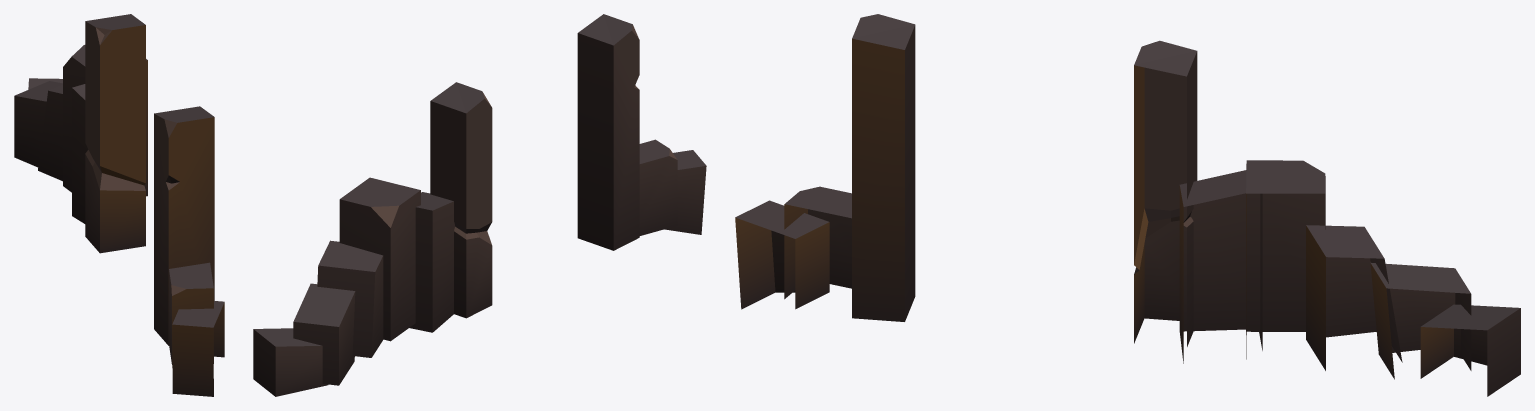
File: ENV_RTS_Ruins_Main_02.fbx
3 views of the same model, side by side, from view 1: azimuth 30°, elevation 25°; view 2: azimuth 150°, elevation 25°; view 3: azimuth 270°, elevation 25° (orthographic). The views are drawn at different scales.
Visible parts, largest first — view 1: ENV_RTS_Ruins_Main_02; view 2: ENV_RTS_Ruins_Main_02; view 3: ENV_RTS_Ruins_Main_02.
Boxes of the visible parts, x1=… form: ENV_RTS_Ruins_Main_02: x1=14, y1=14, x2=224, y2=396; ENV_RTS_Ruins_Main_02: x1=253, y1=14, x2=706, y2=396; ENV_RTS_Ruins_Main_02: x1=735, y1=14, x2=1520, y2=396.
Size of the model in its own units: 435 by 514 by 1227.
